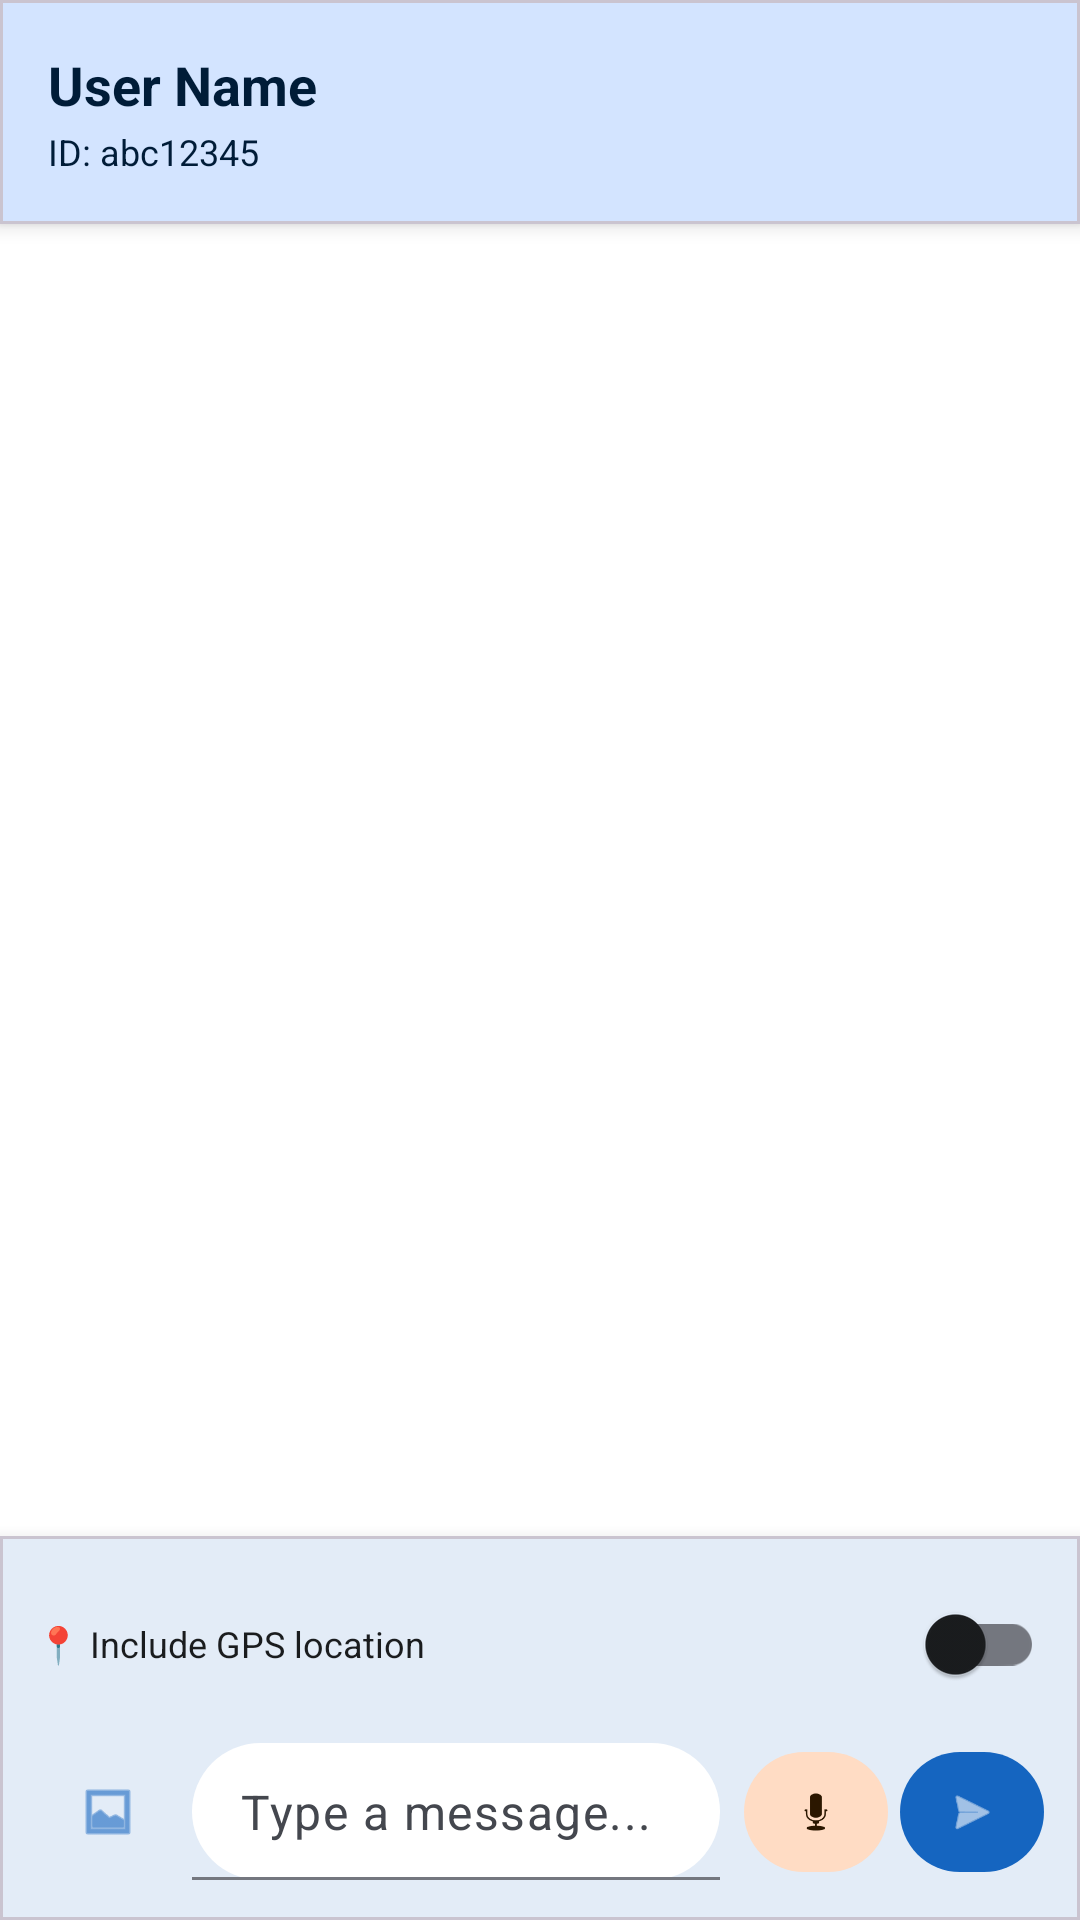

Screen size 1080x1920. Icon name, then its box in pixels as {"left": x1, "top": y1, "right": x2, "bottom": y2}:
gallery: {"left": 85, "top": 1789, "right": 131, "bottom": 1835}
send: {"left": 900, "top": 1752, "right": 1044, "bottom": 1872}
speak now: {"left": 744, "top": 1752, "right": 888, "bottom": 1872}
